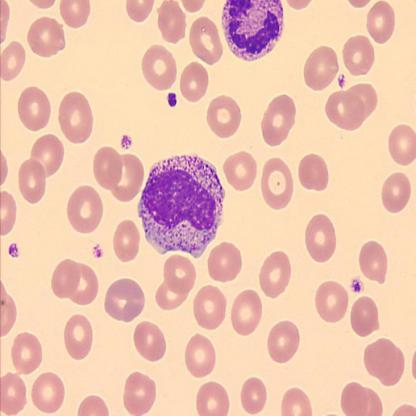Metamyelocyte: (136, 154, 226, 260)
